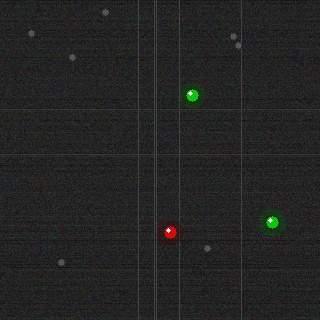green_normal: (264, 214, 280, 230), (184, 87, 200, 103)
red_fault: (162, 224, 178, 240)
